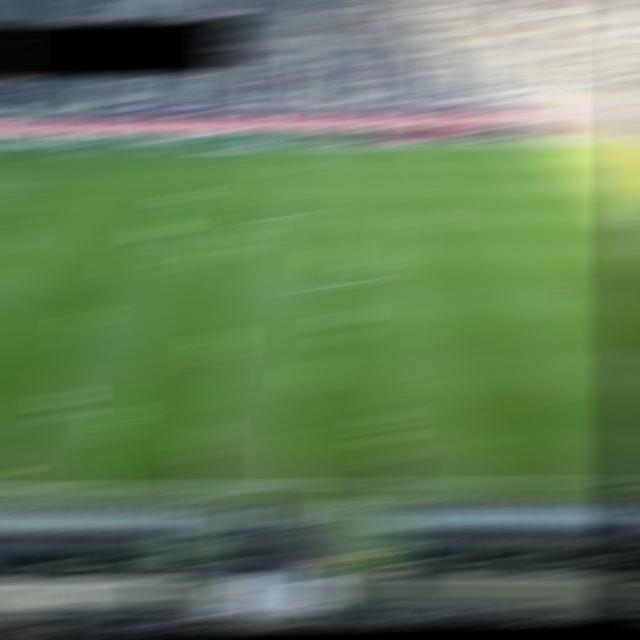bigarea_top_inner: (570, 172, 610, 183), (19, 182, 58, 193)
halfcircle_bottom: (285, 284, 323, 293)
halfcircle_top: (293, 209, 329, 219)
midline_bottom_intersection: (268, 476, 307, 492)
midline_top_intersection: (299, 146, 334, 155)
top_arc_area_intersection: (609, 208, 640, 219), (0, 218, 17, 232)
